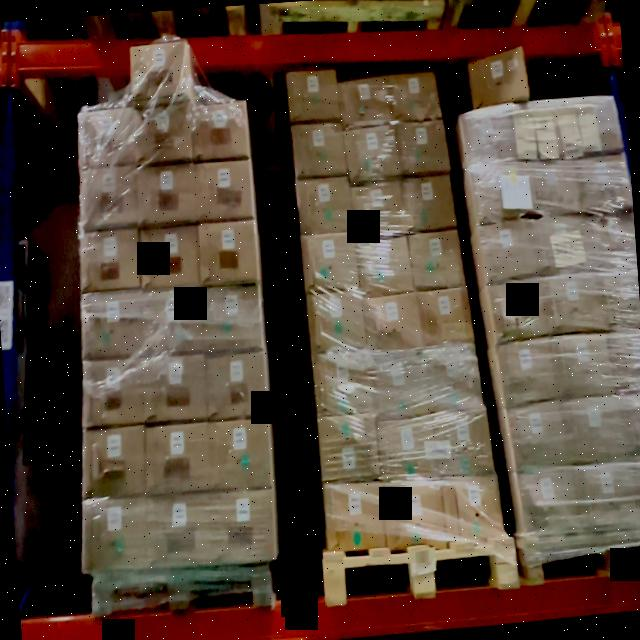box: (82, 358, 146, 426), (81, 501, 145, 567), (382, 477, 444, 542), (80, 225, 140, 292), (148, 426, 208, 491), (318, 416, 376, 482), (324, 482, 382, 548), (210, 425, 270, 487), (83, 296, 143, 357), (208, 353, 266, 416), (220, 497, 276, 562), (150, 502, 208, 564), (84, 432, 144, 491), (199, 220, 256, 282), (312, 355, 373, 412), (151, 356, 207, 418), (142, 226, 199, 286), (300, 233, 359, 290), (448, 479, 502, 541), (310, 293, 366, 352), (80, 165, 136, 223), (434, 416, 492, 472), (128, 44, 190, 96), (366, 299, 419, 357), (206, 294, 262, 348), (377, 420, 433, 474), (288, 64, 340, 122), (140, 168, 194, 222), (194, 104, 248, 158), (197, 168, 251, 222), (374, 352, 426, 408), (78, 111, 134, 162), (146, 294, 200, 346), (292, 125, 344, 179), (298, 180, 350, 234), (350, 180, 402, 233), (419, 290, 469, 344), (360, 240, 410, 292), (138, 109, 192, 157), (412, 236, 462, 287), (428, 351, 479, 401), (391, 72, 440, 120), (400, 124, 448, 172), (342, 77, 388, 127), (346, 130, 396, 176), (406, 178, 453, 224)
